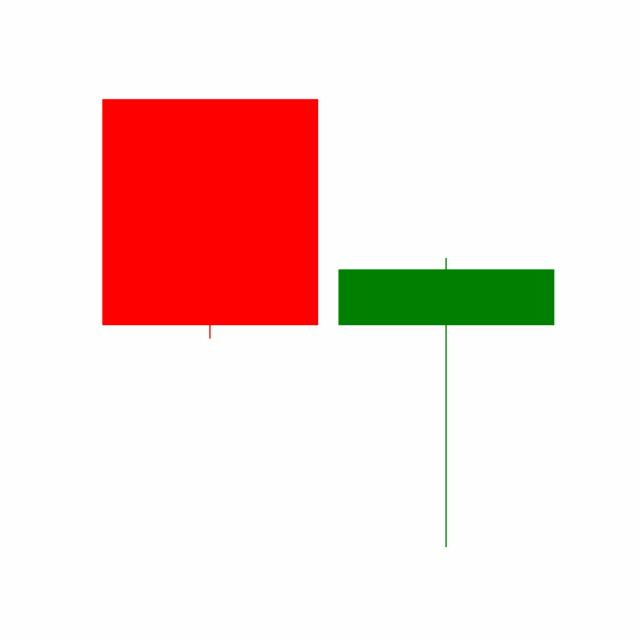Hammer: (327, 254, 565, 550)
